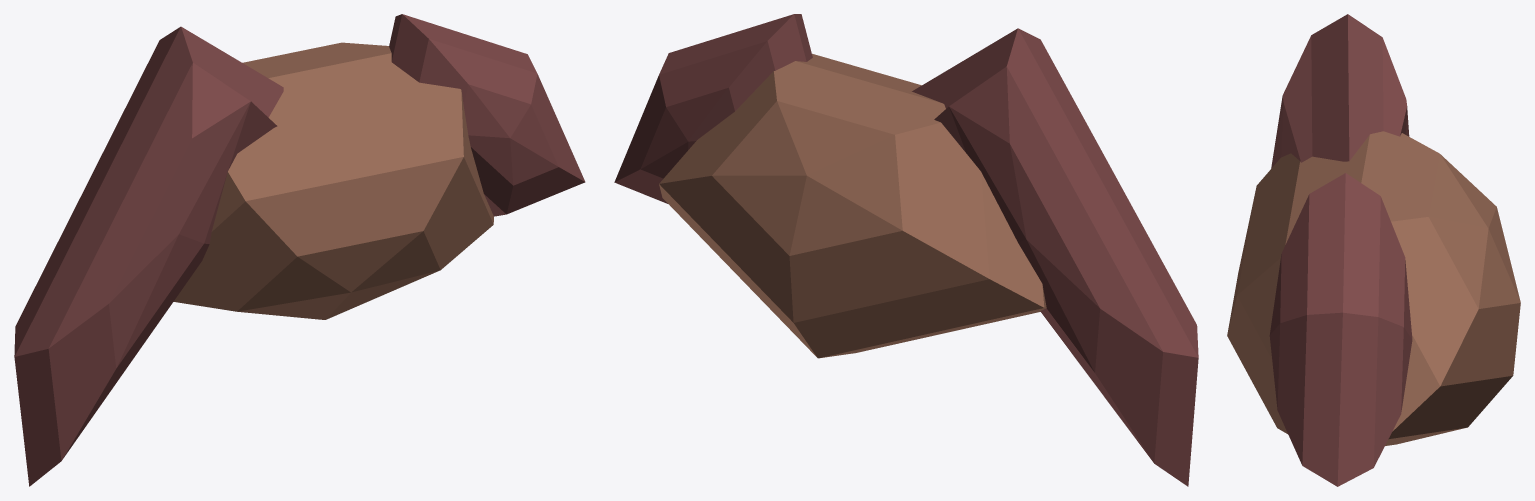
Rendered from west_rock06.fbx.
The picture shows the model from 3 angles, left to right: view 1: azimuth 30°, elevation 25°; view 2: azimuth 150°, elevation 25°; view 3: azimuth 270°, elevation 25°; orthographic projection. The views are drawn at different scales.
Visible parts, largest first — view 1: pSphere13; view 2: pSphere13; view 3: pSphere13.
Part boxes in pixels (left/top/right/bottom): pSphere13: left=14, top=14, right=585, bottom=486; pSphere13: left=614, top=14, right=1198, bottom=486; pSphere13: left=1227, top=14, right=1520, bottom=486.
Bounding box in the file's own units: 9.88 × 6.9 × 4.11.
